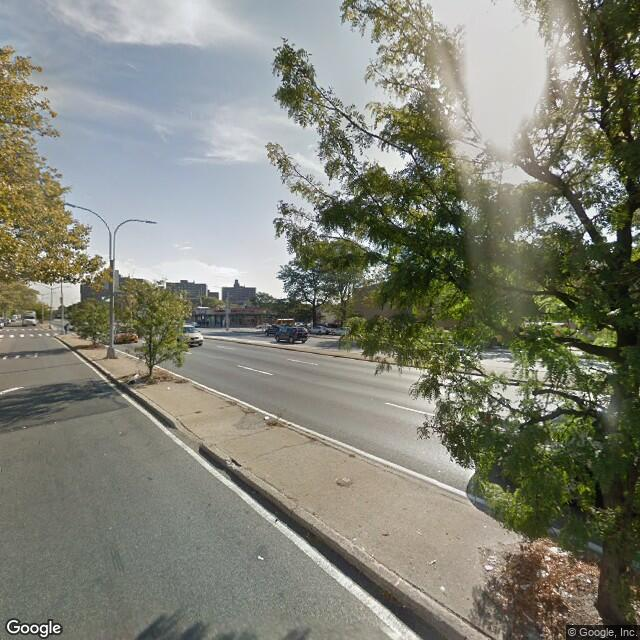litter: (549, 546, 575, 560), (551, 586, 571, 599), (537, 567, 551, 575), (167, 383, 176, 392), (257, 553, 266, 561), (483, 564, 494, 570), (131, 373, 141, 379), (425, 559, 437, 564), (264, 414, 270, 418), (439, 583, 442, 588)
